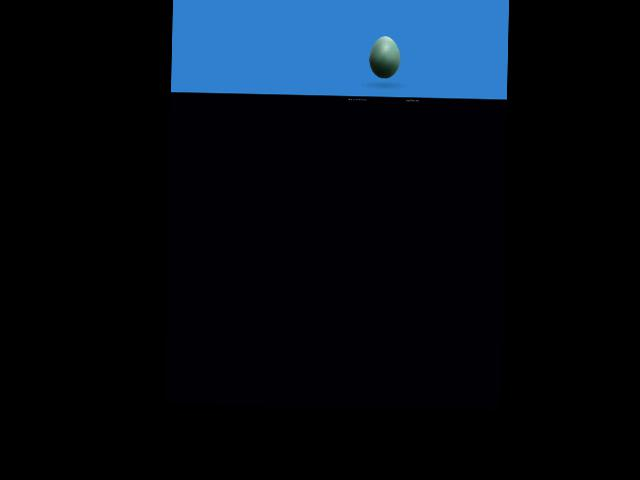egg: (368, 35, 400, 78)
